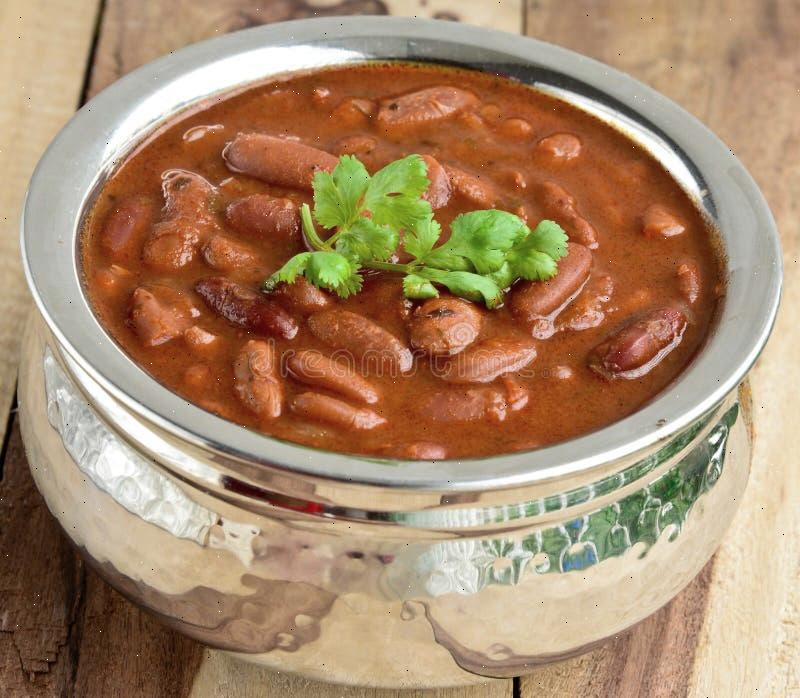rajma: (115, 60, 722, 470)
